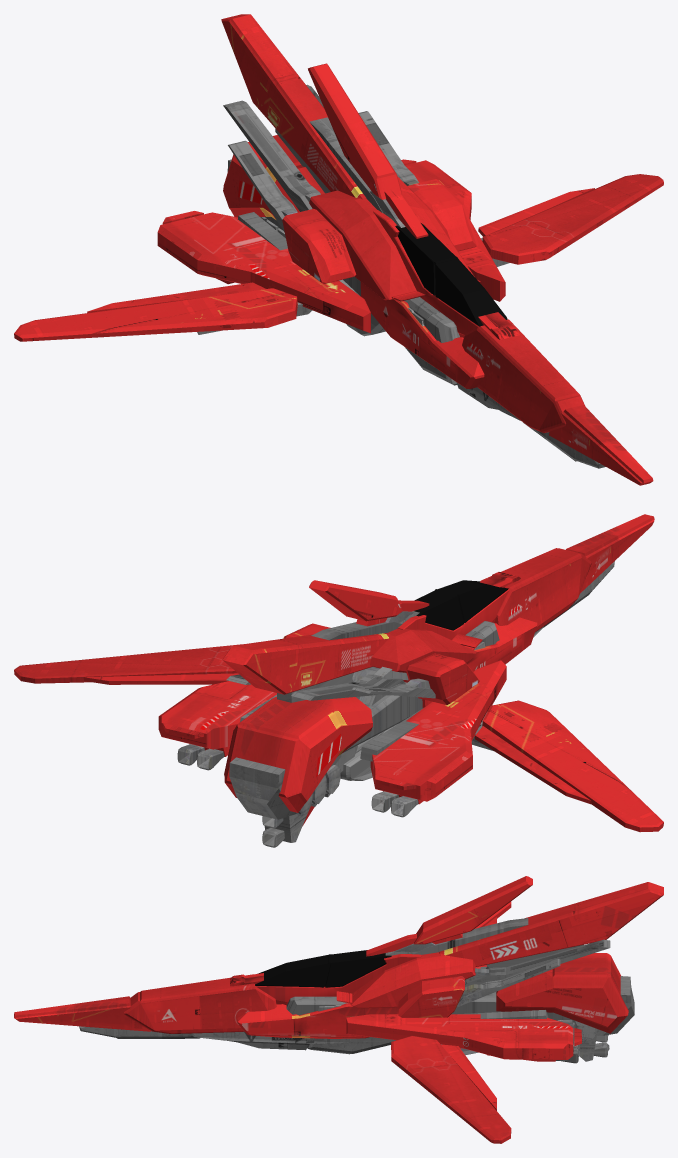
The model's file is fighter3.FBX.
3 renders of one model, top to bottom at view 1: azimuth 30°, elevation 25°; view 2: azimuth 150°, elevation 25°; view 3: azimuth 270°, elevation 25°, orthographic. The views are drawn at different scales.
Parts seen in each view (by area): view 1: polySurface176; view 2: polySurface176; view 3: polySurface176.
Part boxes in pixels (bbox=[...]): polySurface176: bbox=[14, 14, 663, 485]; polySurface176: bbox=[14, 514, 663, 847]; polySurface176: bbox=[14, 876, 663, 1143].
Bounding box in the file's own units: 516 × 175 × 578.
